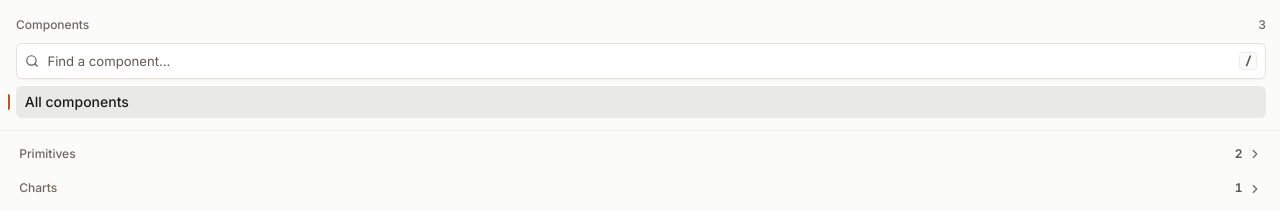
it: DocsSidebar › filters groups by name and shows an empty state
In the search field named "Find a component": point(639, 61) [45,50,1233,72], type "bar"
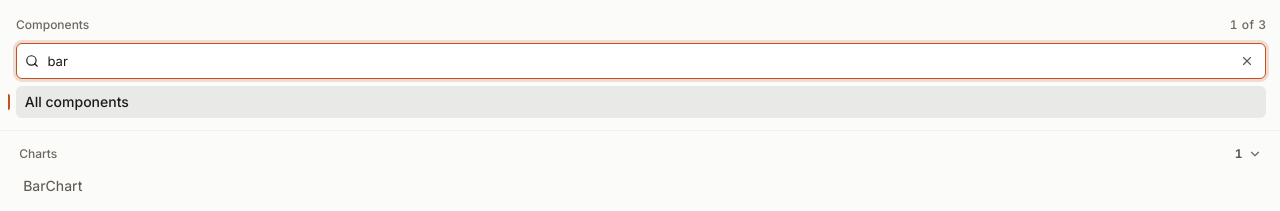
Now the link "BarChart" is shown, box [23,177,82,194]
Now the text "1 of 3" is shown, box [1230,16,1266,35]
Clear the search field named "Find a component": point(638, 61) [45,50,1231,72]
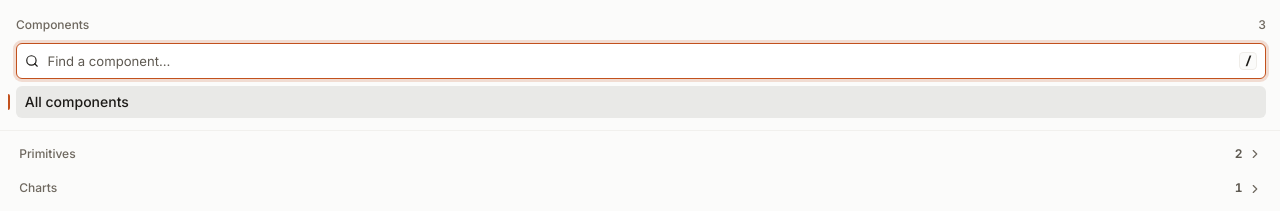
In the search field named "Find a component": point(639, 61) [45,50,1233,72], type "zzzz"
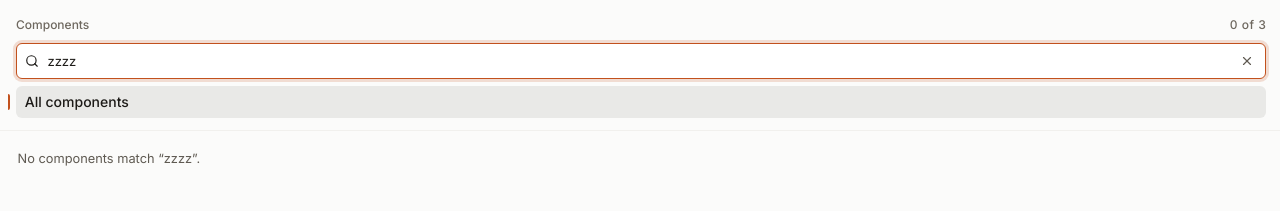
Now the text "No components match “zzzz”." is shown, box [18,151,200,166]
